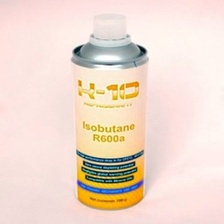aerosol_cans: (67, 8, 152, 213)
